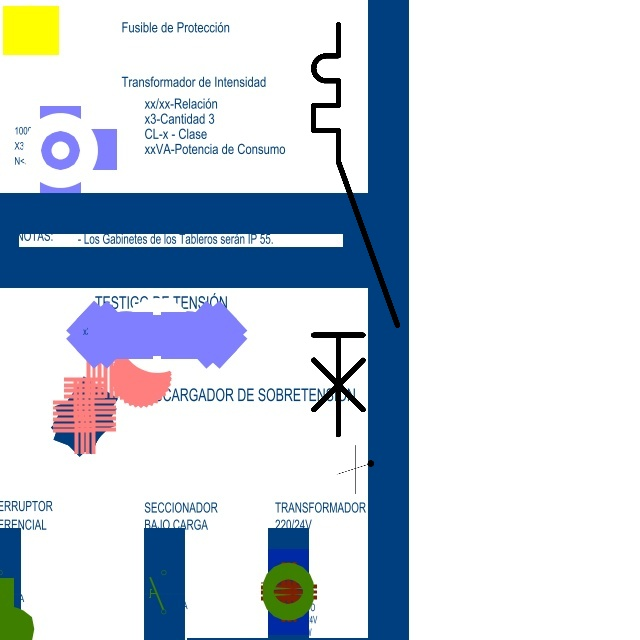interruptor_termomagnetico: (303, 14, 408, 445)
